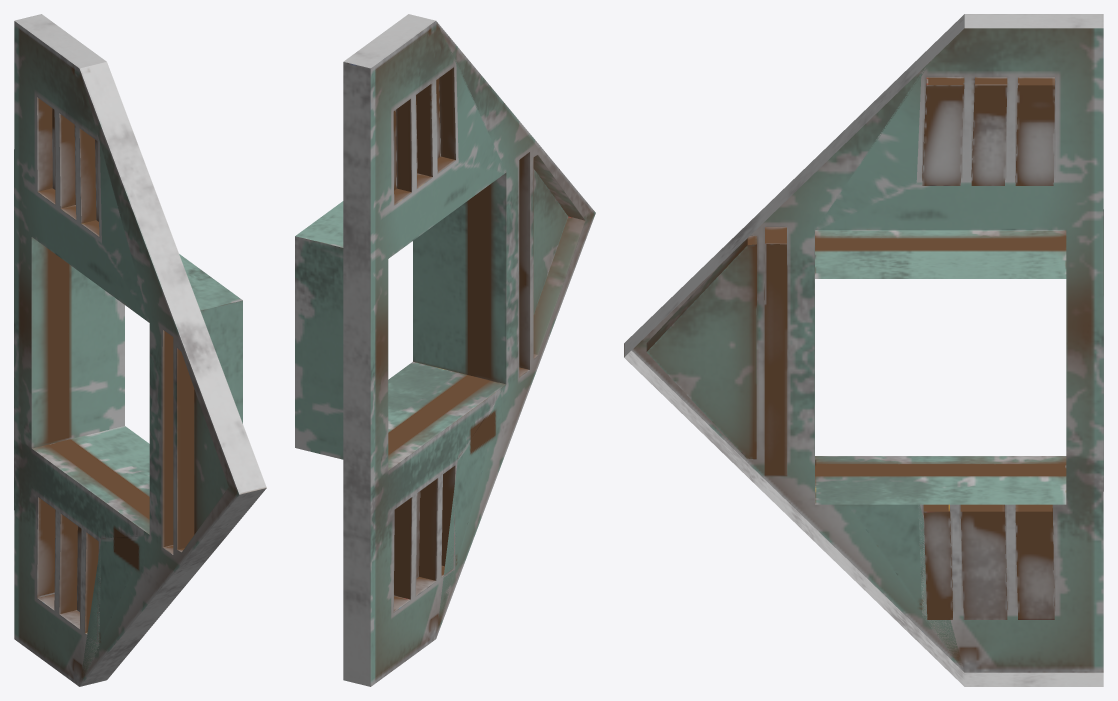
Rendered from HouseWall2.obj.
3 renders of one model, left to right at view 1: azimuth 30°, elevation 25°; view 2: azimuth 150°, elevation 25°; view 3: azimuth 270°, elevation 25°, orthographic. The views are drawn at different scales.
Parts seen in each view (by area): view 1: polySurface146.029; view 2: polySurface146.029; view 3: polySurface146.029.
Part boxes in pixels (bbox=[...]): polySurface146.029: bbox=[14, 14, 266, 686]; polySurface146.029: bbox=[295, 14, 595, 686]; polySurface146.029: bbox=[624, 14, 1103, 686].
Size of the model in its own units: 4.04 by 25.63 by 16.92.
1 material, 1 textured.
